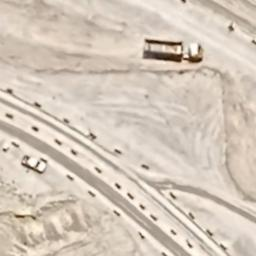pickup: (22, 150, 47, 174)
truck: (140, 32, 205, 64)
